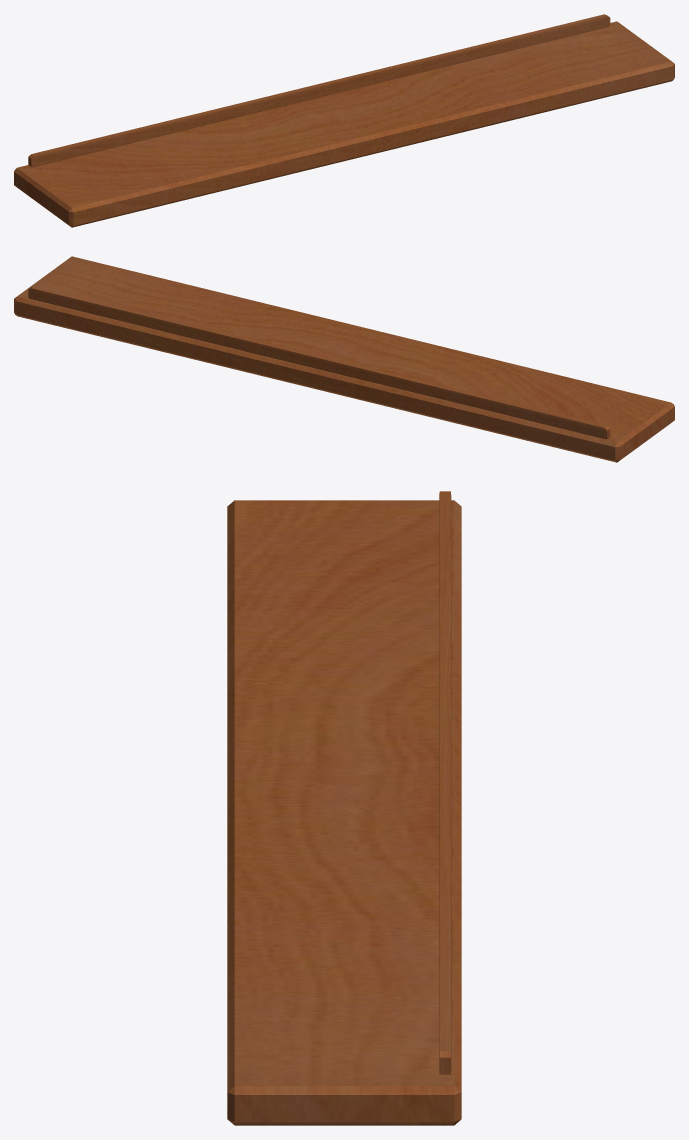
The model's file is aws_Board_01_visual.DAE.
3 renders of one model, top to bottom at view 1: azimuth 30°, elevation 25°; view 2: azimuth 150°, elevation 25°; view 3: azimuth 270°, elevation 25°, orthographic. The views are drawn at different scales.
Parts seen in each view (by area): view 1: aws_Board_01_visual; view 2: aws_Board_01_visual; view 3: aws_Board_01_visual.
Part boxes in pixels (x1,y1,x2,y2): aws_Board_01_visual: (14, 14, 674, 227); aws_Board_01_visual: (14, 256, 674, 462); aws_Board_01_visual: (227, 491, 461, 1125).
Size of the model in its own units: 114 by 19.02 by 5.51.
1 material, 1 textured.
